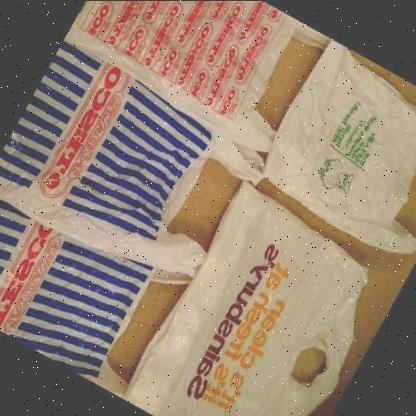Others: (0, 0, 416, 416), (1, 30, 259, 276), (122, 178, 366, 416), (0, 183, 190, 397), (63, 1, 326, 153), (262, 38, 416, 258)
